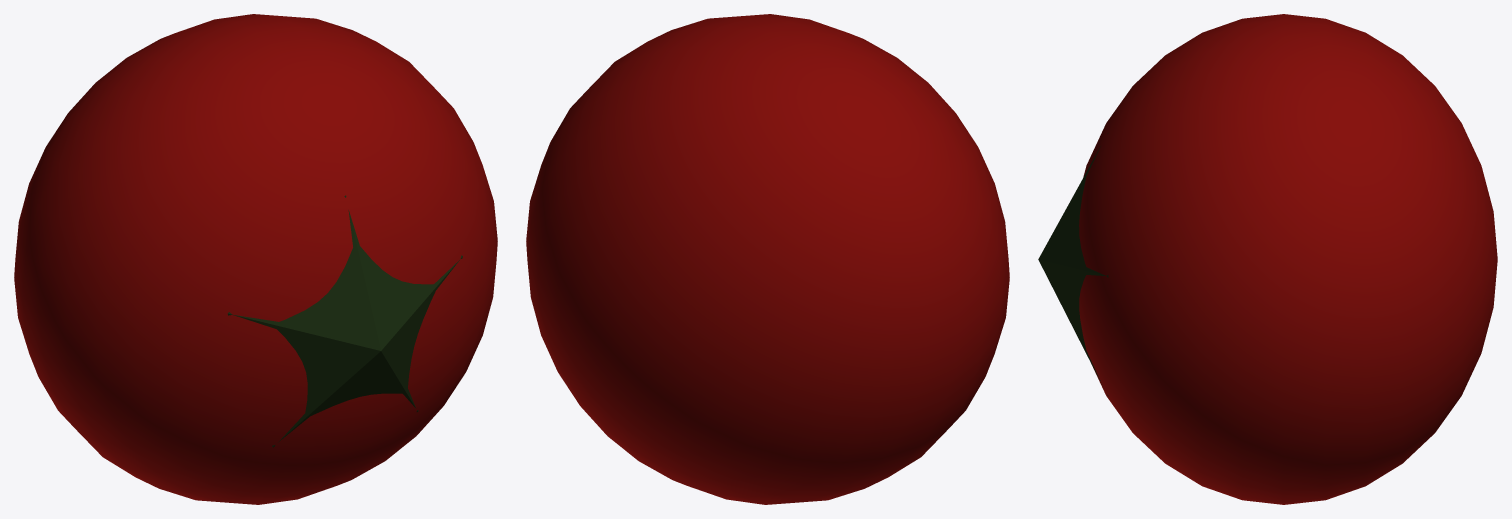
The model's file is tomato_fruit_red.obj.
The picture shows the model from 3 angles, left to right: view 1: azimuth 30°, elevation 25°; view 2: azimuth 150°, elevation 25°; view 3: azimuth 270°, elevation 25°; orthographic projection.
Parts seen in each view (by area): view 1: fruit, calyx; view 2: fruit; view 3: fruit, calyx.
Boxes of the visible parts, x1,y1,x2,y2 form: fruit: [14, 14, 497, 504]; calyx: [227, 195, 462, 447]; fruit: [526, 14, 1009, 504]; fruit: [1079, 14, 1497, 504]; calyx: [1038, 133, 1108, 396].
Size of the model in its own units: 0.07 by 0.07 by 0.0654.
